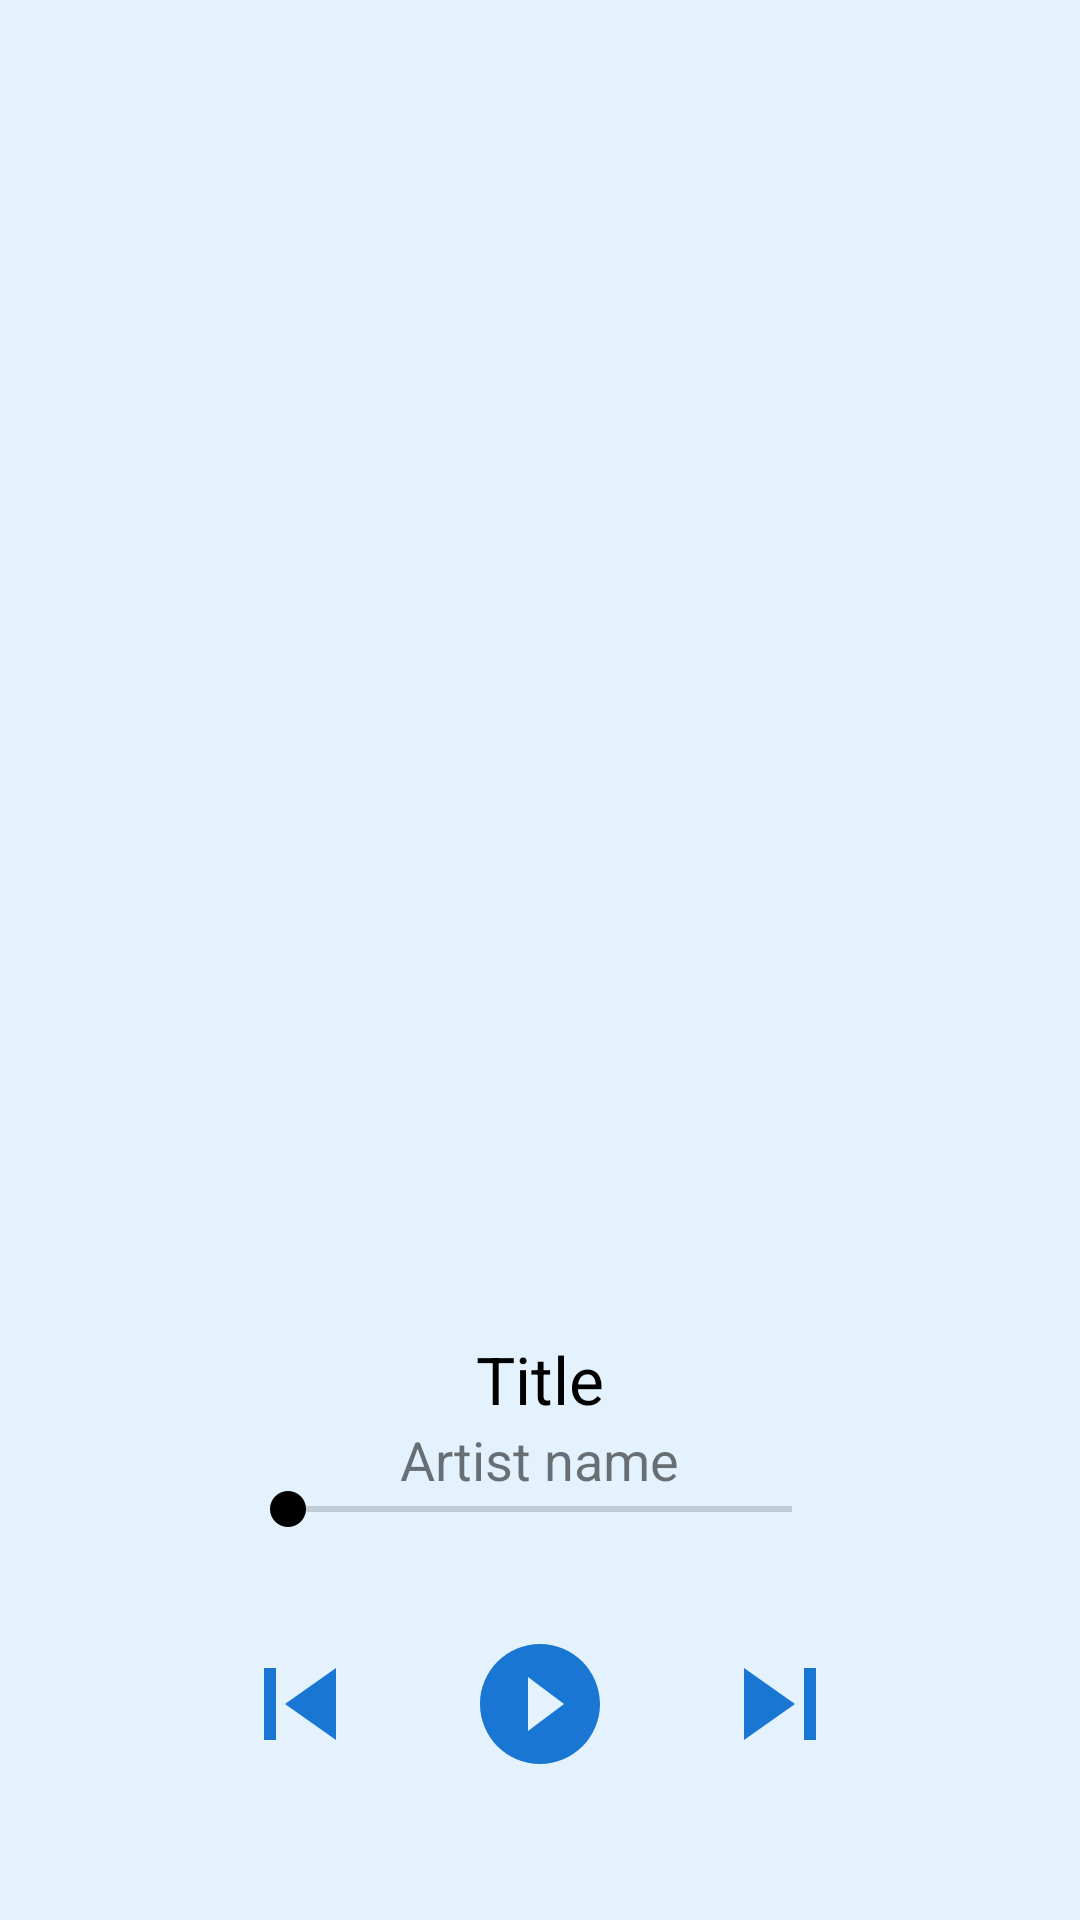

Screen size 1080px×1920px. Icon name, then its box in pixels as bbox(x1, y1, x2, y2):
next: bbox(744, 1668, 816, 1740)
play: bbox(480, 1644, 600, 1764)
previous: bbox(264, 1668, 336, 1740)
